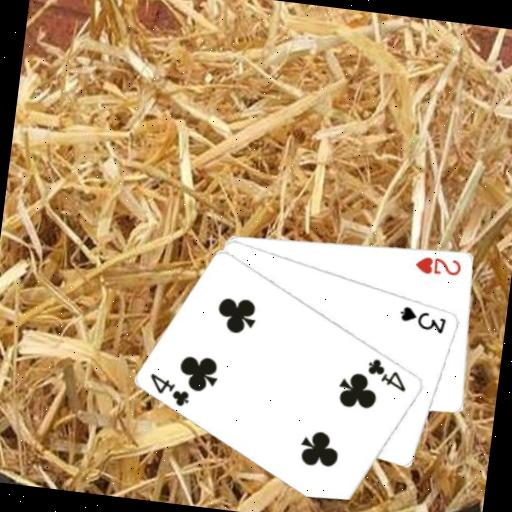2H: (411, 251, 464, 279)
3S: (396, 302, 450, 336)
4C: (144, 369, 194, 409), (362, 355, 411, 394)
